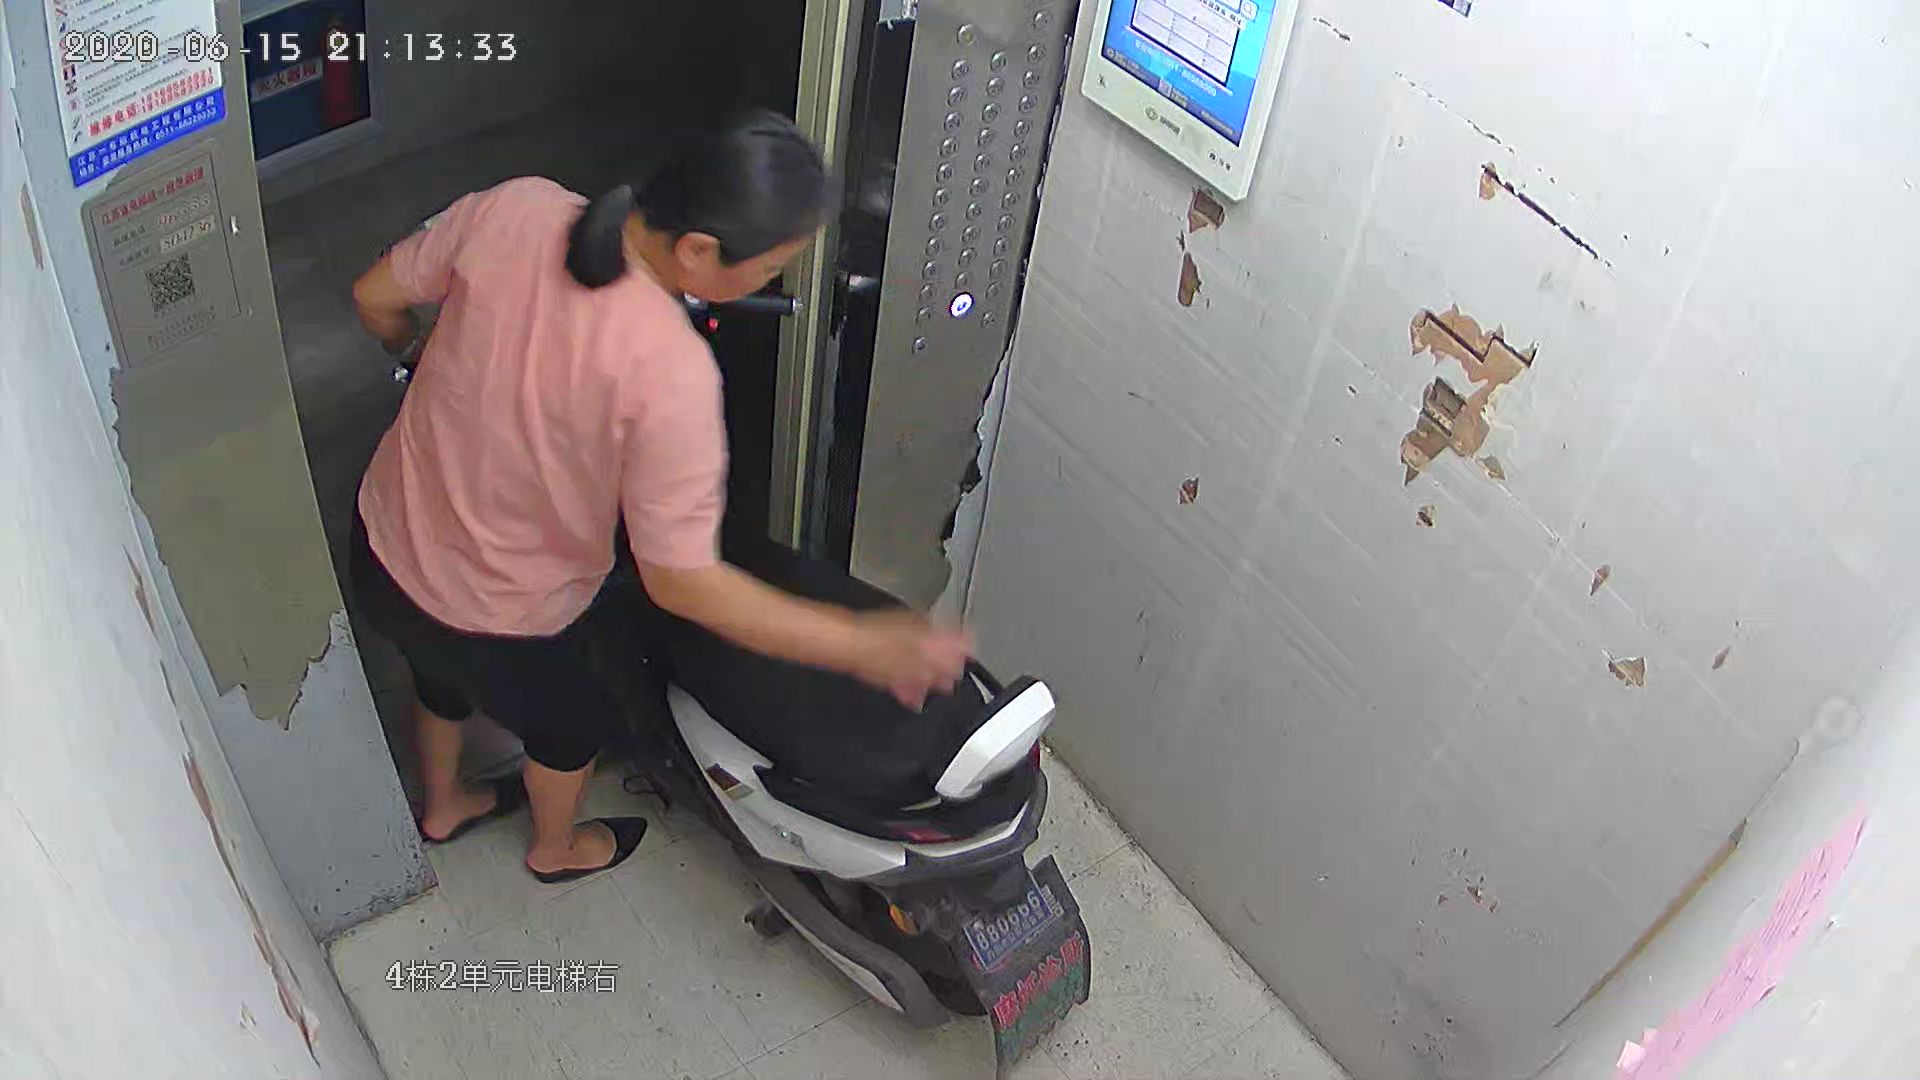Electric-bicycle: (625, 286, 1067, 1043)
